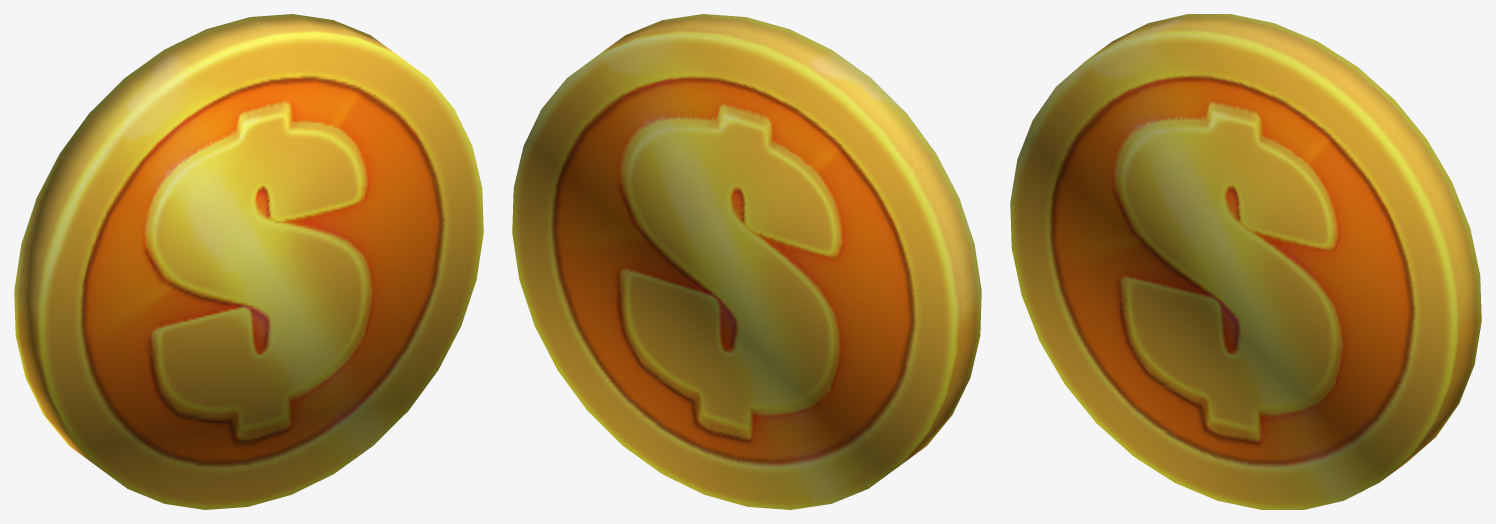
Rendered from Coin.FBX.
The picture shows the model from 3 angles, left to right: view 1: azimuth 30°, elevation 25°; view 2: azimuth 150°, elevation 25°; view 3: azimuth 330°, elevation 25°; orthographic projection.
Visible parts, largest first — view 1: Coin; view 2: Coin; view 3: Coin.
Part boxes in pixels (x1=…): Coin: x1=14, y1=14, x2=483, y2=509; Coin: x1=512, y1=14, x2=981, y2=509; Coin: x1=1010, y1=14, x2=1481, y2=509.
Bounding box in the file's own units: 0.2341 × 0.0248 × 0.2341.
